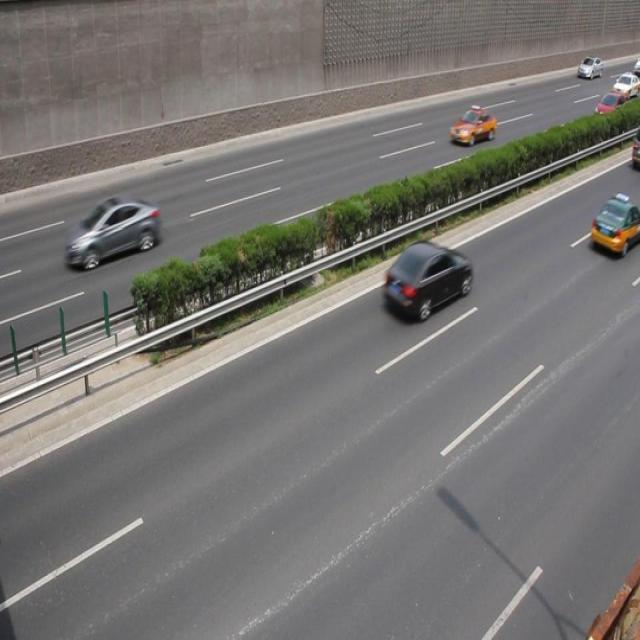car: (382, 240, 471, 324), (62, 197, 159, 269), (587, 194, 640, 256), (448, 103, 495, 148), (592, 90, 628, 125), (576, 56, 601, 79)
